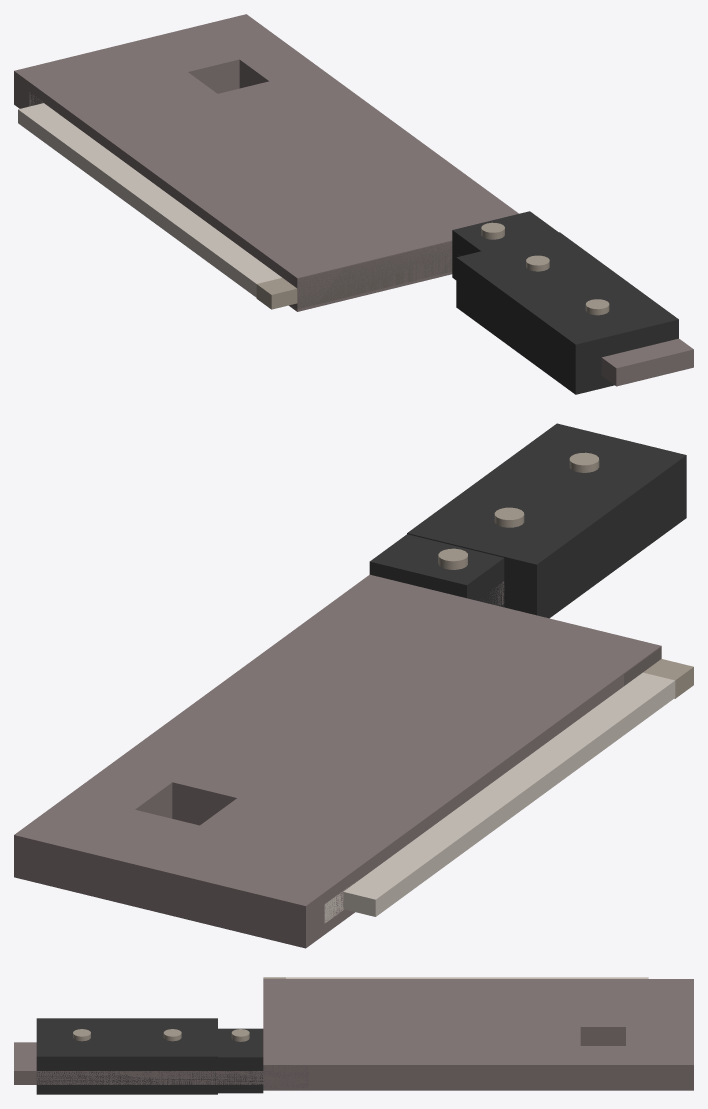
File: CMU3DRMCKitchenKnifeButcherInheritedMiscCloud.glb
3 views of the same model, one above another, from view 1: azimuth 30°, elevation 25°; view 2: azimuth 150°, elevation 25°; view 3: azimuth 270°, elevation 25° (orthographic). The views are drawn at different scales.
Parts seen in each view (by area): view 1: lower blade, lower wooden grip, upper blade, thin bright cutting edge, lower blade heel, blade left of hanging hole, full continuous handle tang, upper grip shoulder, blade right of hanging hole, lower edge taper; view 2: lower blade, upper blade, lower wooden grip, thin bright cutting edge, blade left of hanging hole, upper grip shoulder, blade right of hanging hole, lower edge taper; view 3: lower blade, lower wooden grip, upper blade, full continuous handle tang, blade left of hanging hole, upper grip shoulder, blade right of hanging hole, thin bright cutting edge, handle rivet 21, lower blade heel, handle rivet 24.
Part boxes in pixels (x1,y1,x2,y2): lower blade: (88,69,518,311); lower wooden grip: (456,232,678,394); upper blade: (14,14,290,113); thin bright cutting edge: (18,103,281,297); lower blade heel: (286,242,452,309); blade left of hanging hole: (58,72,217,135); full continuous handle tang: (457,254,693,386); upper grip shoulder: (452,211,558,279); blade right of hanging hole: (239,47,320,88); lower edge taper: (256,278,297,309); lower blade: (108,574,661,850); upper blade: (14,794,361,948); lower wooden grip: (407,423,686,618); thin bright cutting edge: (343,672,675,916); blade left of hanging hole: (200,798,399,877); upper grip shoulder: (369,534,504,607); blade right of hanging hole: (70,766,172,818); lower edge taper: (643,659,693,698); lower blade: (263,979,580,1090); lower wooden grip: (36,1018,217,1094); upper blade: (626,979,693,1090); full continuous handle tang: (14,1042,285,1084); blade left of hanging hole: (580,979,625,1045); upper grip shoulder: (218,1028,263,1093); blade right of hanging hole: (580,1046,625,1090); thin bright cutting edge: (286,977,648,978); handle rivet 21: (231,1029,249,1041); lower blade heel: (263,1065,308,1088); handle rivet 24: (163,1029,181,1041).
Size of the model in its own units: 0.3125 by 0.065 by 0.9375.
